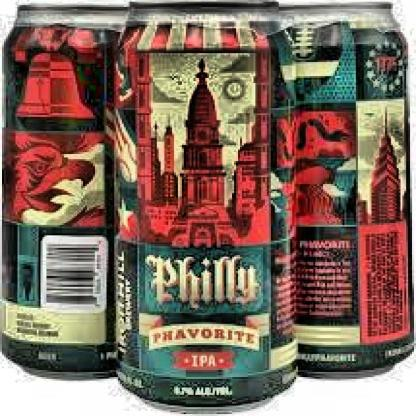Can: (109, 0, 301, 416), (0, 0, 142, 386), (276, 3, 416, 384)
